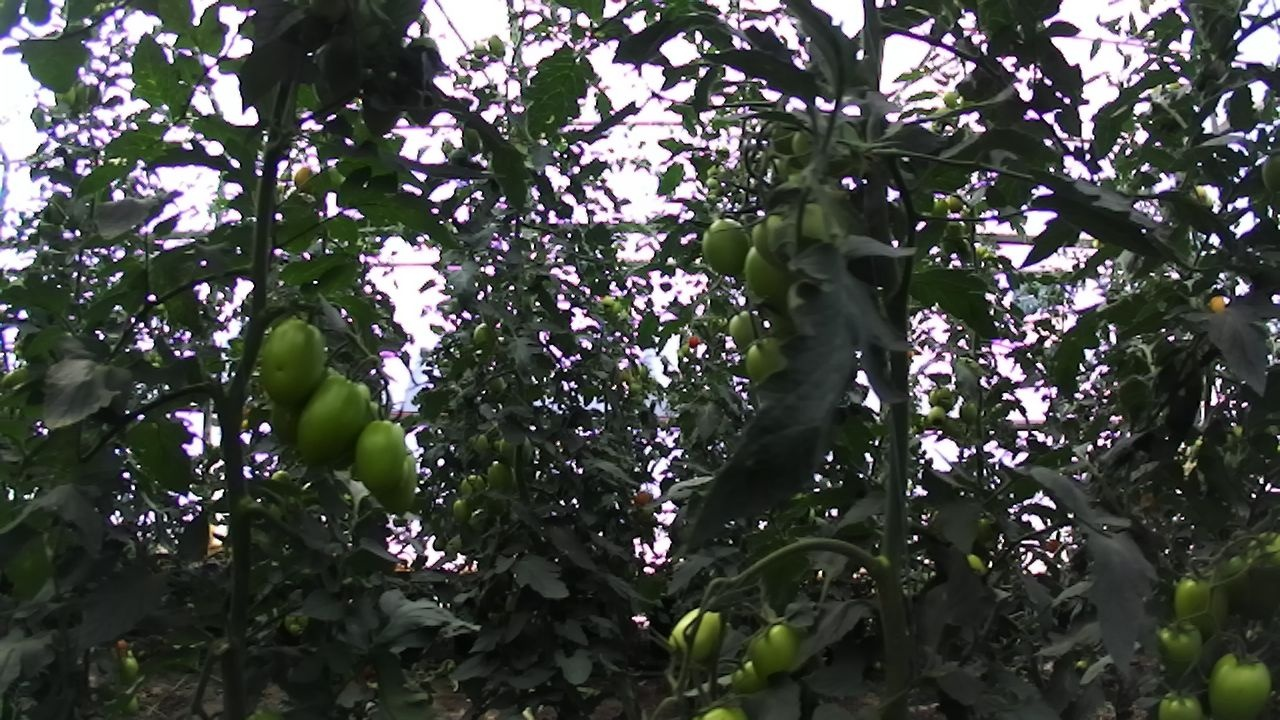tomato: (285, 360, 387, 471), (243, 310, 344, 417), (780, 98, 881, 195), (736, 236, 827, 326), (652, 589, 739, 680), (1167, 563, 1246, 650), (346, 407, 420, 499), (735, 610, 818, 692), (692, 204, 770, 289), (1198, 641, 1280, 720), (1145, 610, 1219, 683), (740, 202, 809, 276), (738, 329, 804, 391), (718, 299, 779, 357), (1147, 677, 1217, 720), (461, 314, 508, 357), (1114, 371, 1156, 417), (493, 432, 539, 471), (113, 642, 149, 690), (456, 468, 491, 513), (483, 456, 519, 498), (923, 380, 960, 415), (287, 161, 321, 197), (279, 608, 315, 641), (458, 123, 490, 158), (935, 82, 966, 116), (449, 493, 477, 529), (630, 481, 659, 515), (466, 429, 497, 460), (1203, 288, 1234, 318), (925, 192, 954, 223), (922, 400, 952, 429), (484, 30, 512, 61), (954, 398, 983, 427), (942, 187, 969, 218), (483, 367, 509, 399), (469, 36, 491, 62), (701, 172, 723, 193), (625, 378, 645, 399), (684, 332, 703, 353), (598, 291, 617, 310), (609, 298, 622, 316)
